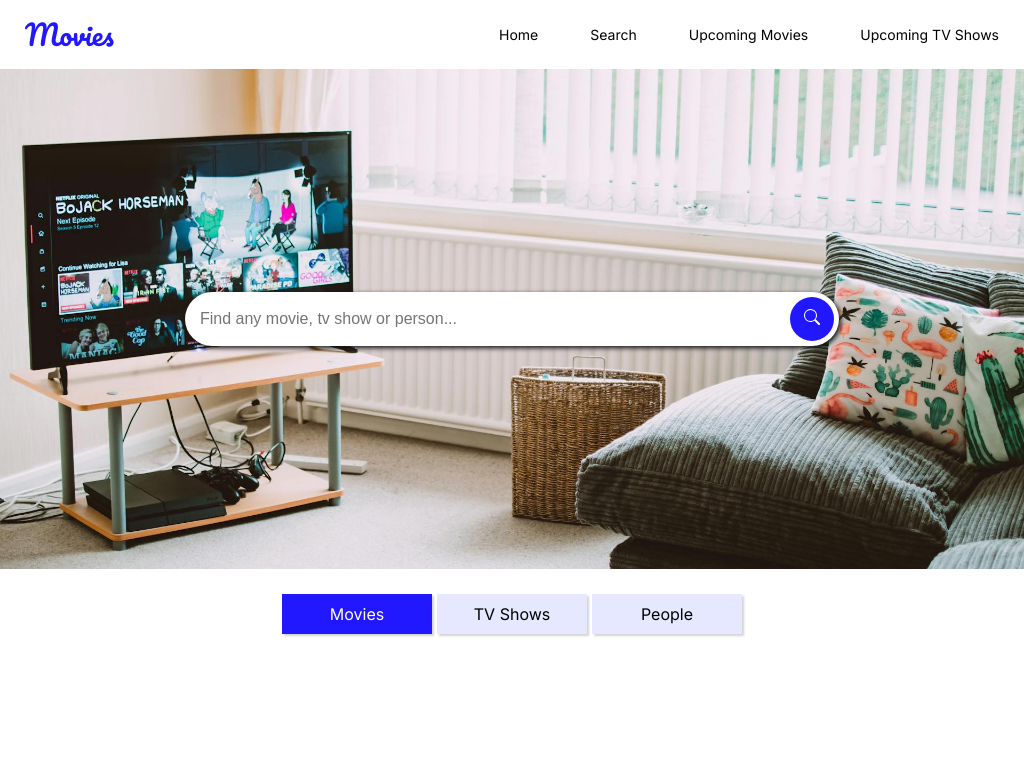
Test case: Navigation › should navigate to the search page
# Find the link to 'search' and click it
Click the link "Search".
click(614, 35)  # box [590,26,637,43]
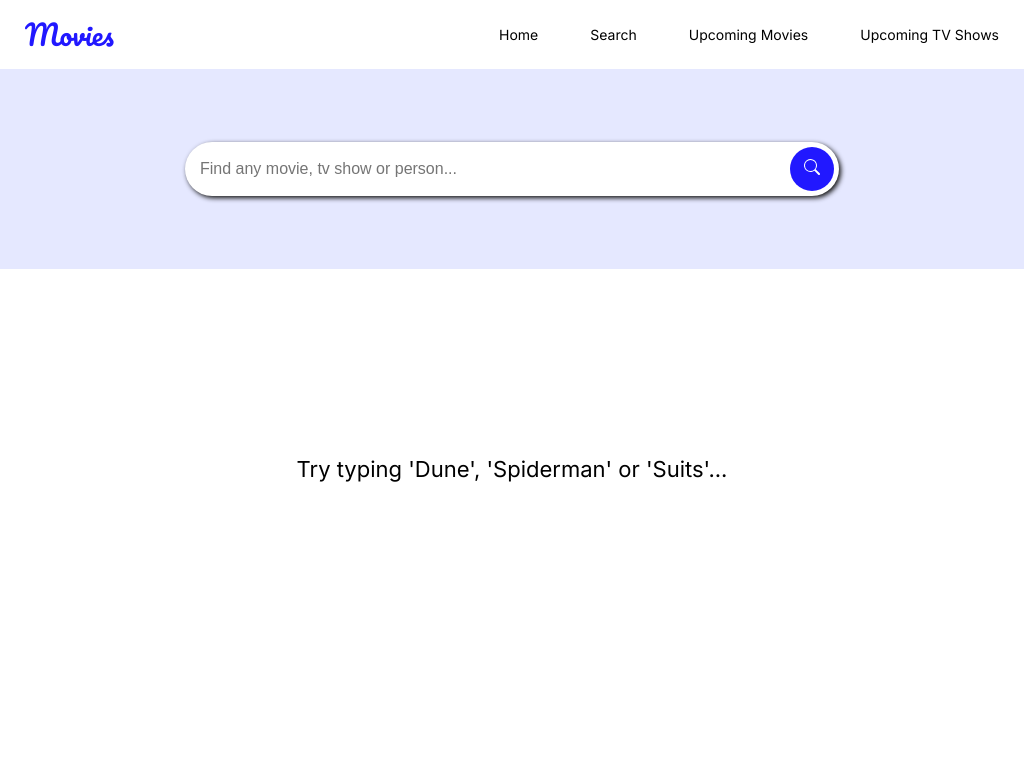
expect the text "Try typing 'Dune', 'Spiderman' or 'Suits'..." is shown: met, box [297,456,728,482]
